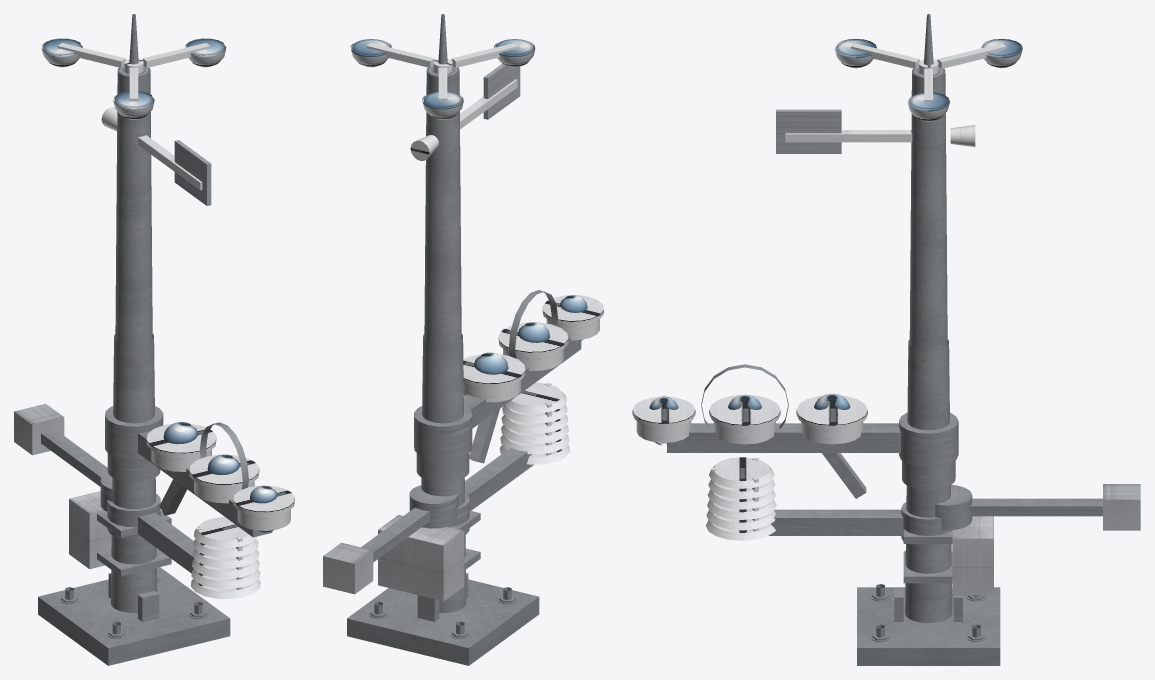
Rendered from met_mast.obj.
3 renders of one model, left to right at view 1: azimuth 30°, elevation 25°; view 2: azimuth 150°, elevation 25°; view 3: azimuth 270°, elevation 25°, orthographic.
Parts seen in each view (by area): view 1: mast, boom, shield, rotate_cups, logger, snow, diffuse, rotate_vane, pyranometer, albedometer; view 2: mast, boom, logger, snow, shield, rotate_cups, diffuse, pyranometer, rotate_vane, albedometer; view 3: mast, boom, snow, shield, rotate_vane, rotate_cups, logger, diffuse, pyranometer, albedometer.
Part boxes in pixels (box(x1,y1,x2,y2)): mast: box(38, 14, 230, 665); boom: box(105, 406, 272, 573); shield: box(191, 517, 260, 599); rotate_cups: box(41, 38, 226, 119); logger: box(69, 491, 171, 576); snow: box(14, 403, 112, 511); diffuse: box(189, 422, 259, 503); rotate_vane: box(101, 107, 211, 205); pyranometer: box(146, 422, 216, 471); albedometer: box(233, 485, 294, 533); mast: box(347, 14, 539, 665); boom: box(414, 337, 581, 535); logger: box(378, 510, 480, 601); snow: box(323, 485, 458, 594); shield: box(499, 382, 569, 464); rotate_cups: box(350, 39, 535, 119); diffuse: box(498, 290, 568, 370); pyranometer: box(463, 352, 525, 402); rotate_vane: box(410, 63, 520, 160); albedometer: box(542, 295, 603, 340); mast: box(857, 14, 1000, 665); boom: box(667, 412, 958, 548); snow: box(935, 484, 1140, 530); shield: box(705, 457, 776, 540); rotate_vane: box(776, 109, 975, 153); rotate_cups: box(835, 39, 1022, 121); logger: box(903, 516, 993, 595); diffuse: box(701, 364, 788, 444); pyranometer: box(796, 393, 867, 444); albedometer: box(632, 396, 695, 445).
Size of what is drawn, in the model's own units: 0.284 by 1.1 by 0.8156.
